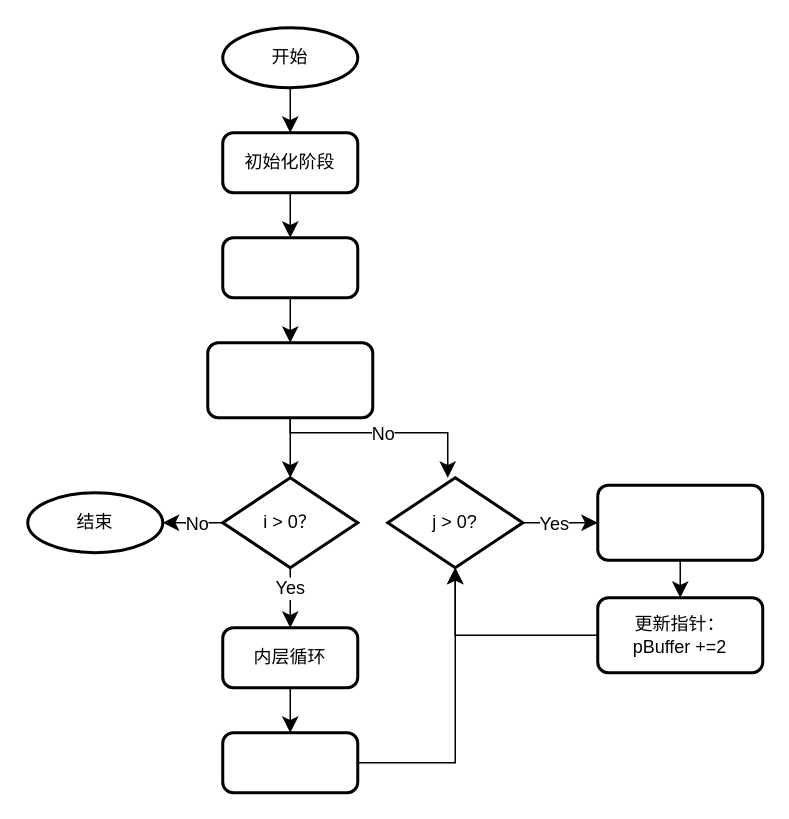
Image size: 789x819. Some labels were removed from this diagram. The centre of each missing label's shape, as x and y in pixels:
"初始化 i = count - 1" goes at point 289,267.
"初始化 pBuffer=charTab16" goes at point 290,379.
"初始化j=16" goes at point 289,762.
"显示当前字符帧: DISP_CH(pBuffer)" goes at point 680,522.
